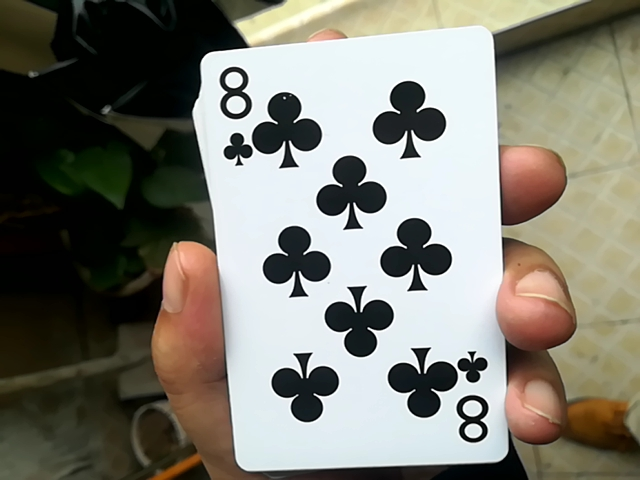mh 8: (186, 32, 511, 472)
